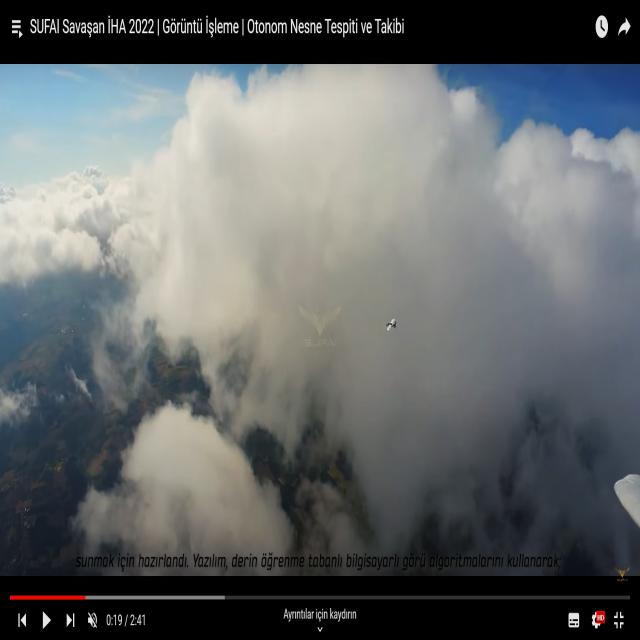iha: (378, 317, 391, 334)
